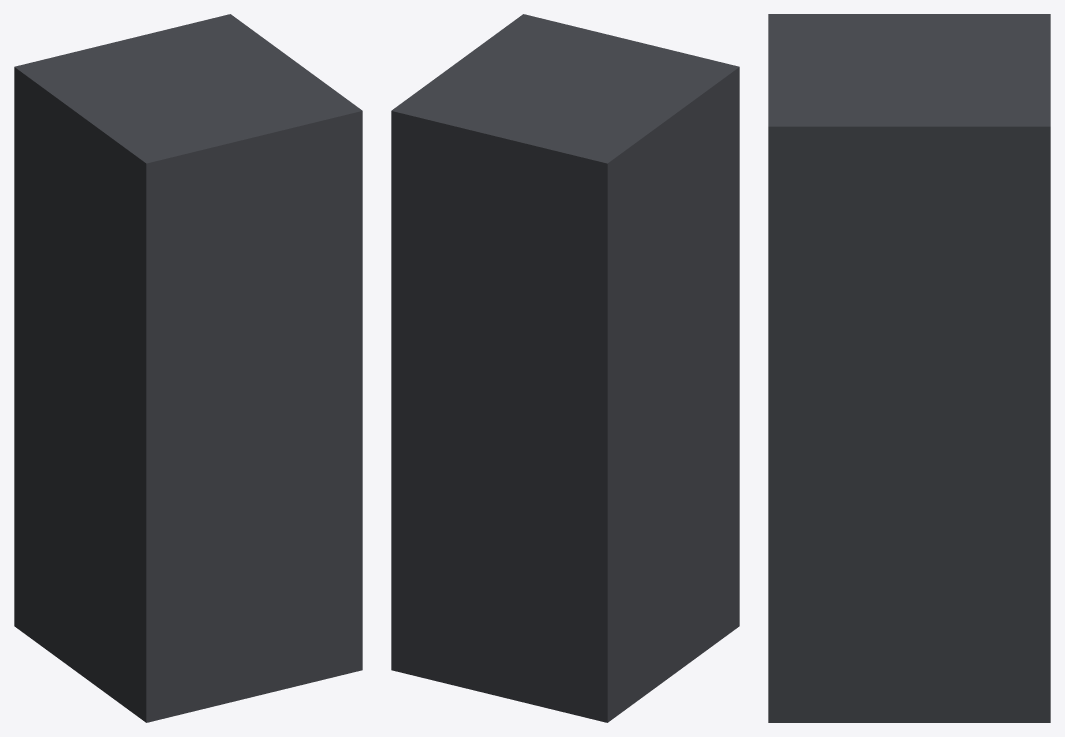
The model's file is arb_muslo.obj.
3 renders of one model, left to right at view 1: azimuth 30°, elevation 25°; view 2: azimuth 150°, elevation 25°; view 3: azimuth 270°, elevation 25°, orthographic. The views are drawn at different scales.
Size of the model in its own units: 0.17 by 0.42 by 0.18.
Materials: 1 (1 with a texture image).
